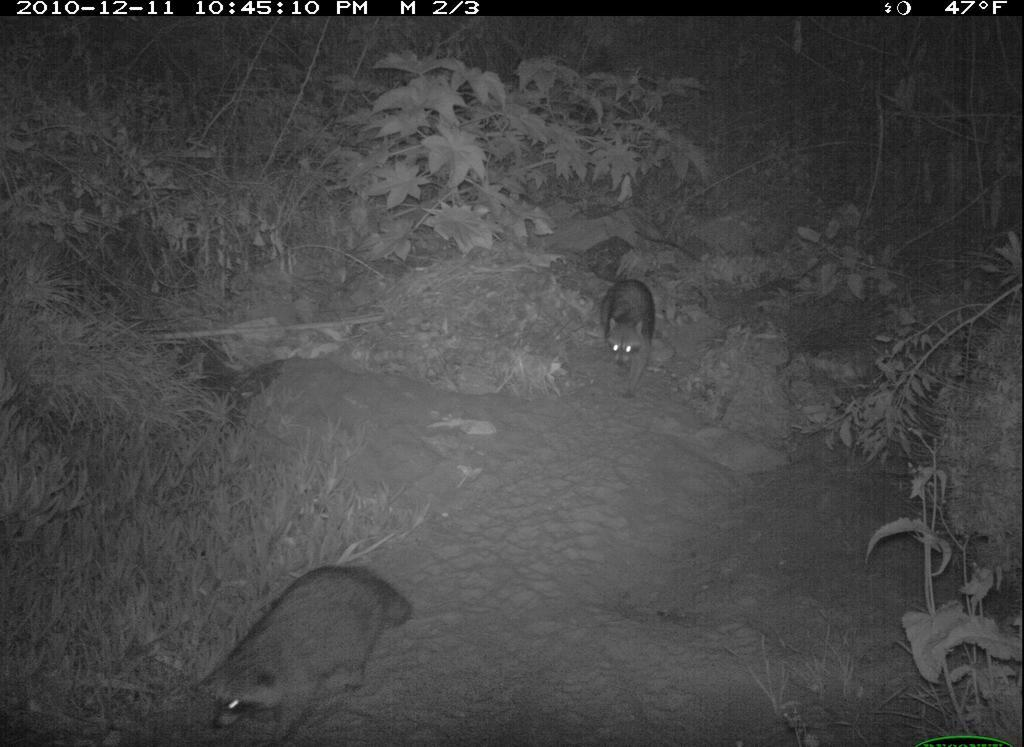raccoon: (199, 557, 423, 744), (591, 277, 665, 396)
